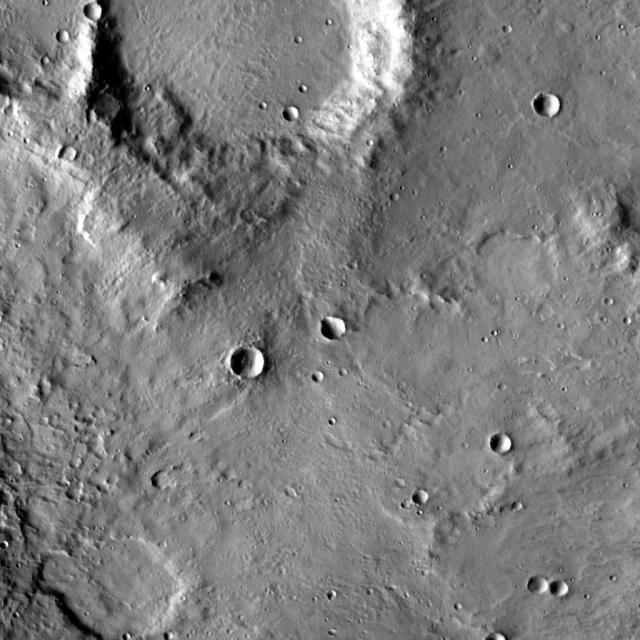crater: (91, 0, 421, 196), (65, 531, 186, 640), (480, 230, 562, 308), (39, 550, 88, 596), (237, 344, 272, 377), (541, 91, 567, 115), (328, 313, 352, 336), (496, 431, 518, 452), (90, 0, 110, 19), (556, 576, 576, 595), (535, 574, 555, 593), (540, 355, 560, 374), (157, 470, 177, 488), (65, 142, 83, 160), (542, 400, 560, 416), (418, 487, 434, 502), (62, 29, 78, 43), (422, 408, 438, 422), (544, 302, 560, 316), (492, 630, 512, 640), (290, 104, 304, 118), (581, 355, 595, 369), (571, 352, 585, 366), (9, 102, 23, 116), (74, 487, 88, 500), (316, 373, 329, 385), (414, 414, 426, 426), (376, 446, 388, 458), (434, 412, 446, 424), (91, 109, 103, 121), (230, 468, 241, 478), (464, 387, 475, 397), (198, 430, 208, 440), (292, 484, 302, 494), (44, 414, 54, 424), (354, 258, 364, 268), (456, 46, 466, 56), (170, 631, 180, 640), (509, 22, 518, 32), (164, 538, 173, 548), (244, 478, 254, 487), (402, 476, 412, 484), (46, 56, 56, 64), (333, 588, 342, 596), (609, 296, 618, 304), (520, 500, 528, 508), (0, 548, 8, 556), (398, 190, 406, 198), (630, 316, 638, 324), (407, 498, 415, 506), (506, 380, 514, 388), (346, 365, 354, 373), (389, 418, 397, 426), (614, 336, 622, 344), (334, 416, 342, 423), (300, 90, 308, 97), (22, 142, 29, 150), (324, 24, 332, 31), (438, 152, 446, 158), (448, 635, 457, 640), (454, 608, 461, 614), (294, 42, 301, 48), (328, 634, 335, 640), (260, 108, 266, 114), (288, 600, 294, 606)
